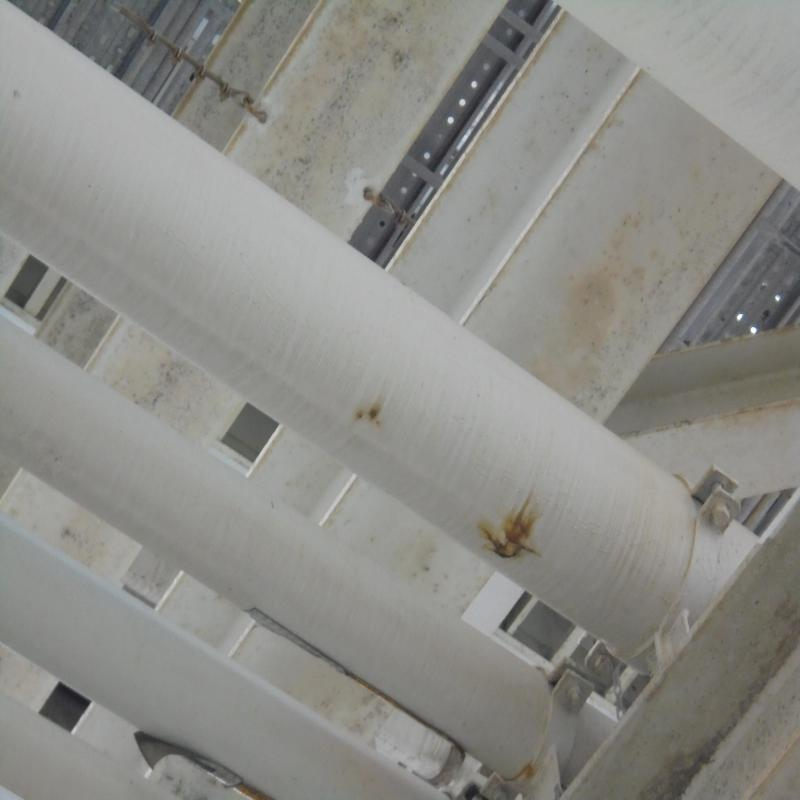corrosion: (504, 502, 524, 570)
